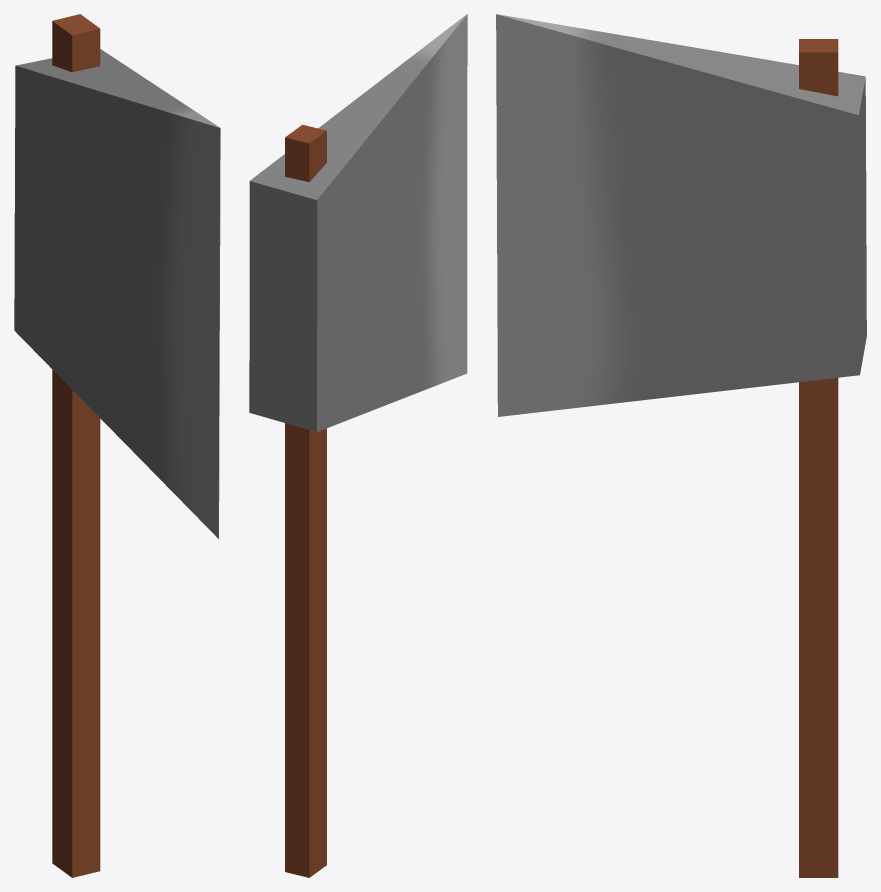
File: axe.obj
3 renders of one model, left to right at view 1: azimuth 30°, elevation 25°; view 2: azimuth 150°, elevation 25°; view 3: azimuth 270°, elevation 25°, orthographic. The views are drawn at different scales.
Parts seen in each view (by area): view 1: Cube, 立方体; view 2: Cube, 立方体; view 3: Cube, 立方体.
Boxes of the visible parts, <box> form: Cube: <box>14,49,220,538</box>; 立方体: <box>52,14,100,877</box>; Cube: <box>249,14,467,431</box>; 立方体: <box>285,124,326,877</box>; Cube: <box>496,14,866,416</box>; 立方体: <box>799,39,838,877</box>.
Bounding box in the file's own units: 0.3462 × 3.51 × 1.39.
Materials: 2 (2 with a texture image).
